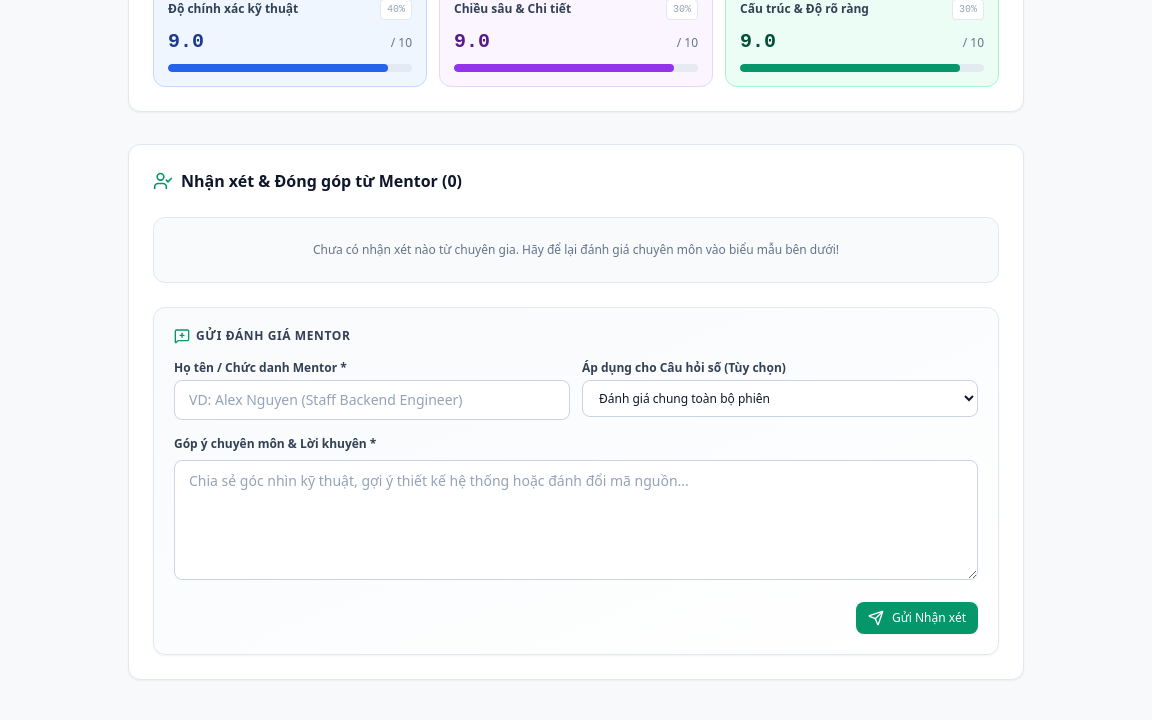
it: Epic 5 Mentor Share Public Review Flow › allows mentor to submit review commentary
This screenshot has width=1152, height=720.
(page scrolled)
Type "Staff Tech Lead" into the field with placeholder "VD: Alex Nguyen (Staff Backend Engineer)".
click(372, 400); type("Staff Tech Lead")  # box [174, 380, 570, 420]
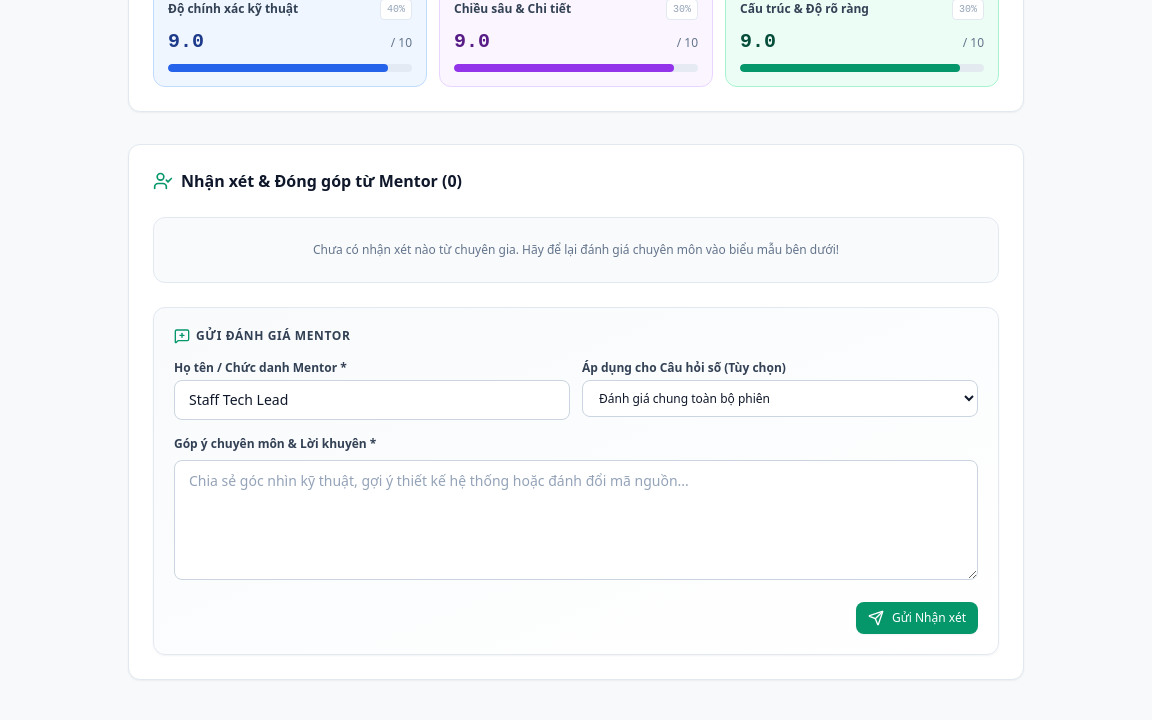
Replace the text in the text box with "Solid distributed systems analysis and trade-offs." at (576, 520), box [174, 460, 978, 580]
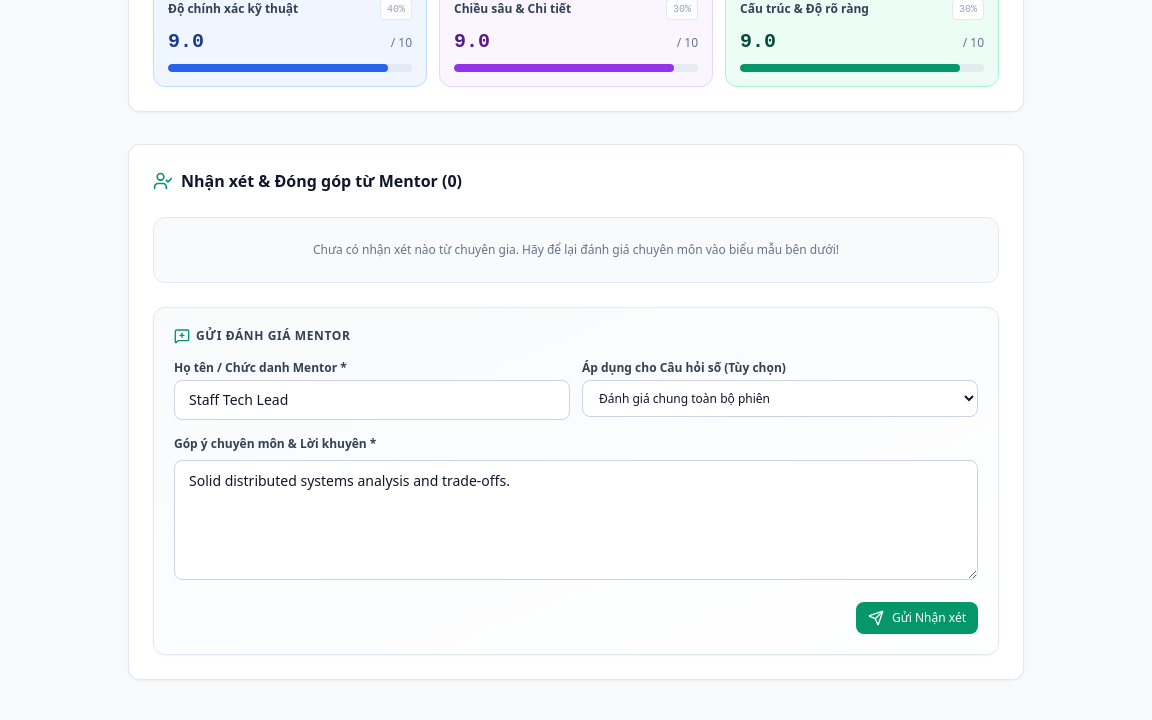
Click the button "Gửi Nhận xét".
click(917, 618)  # box [856, 602, 978, 634]
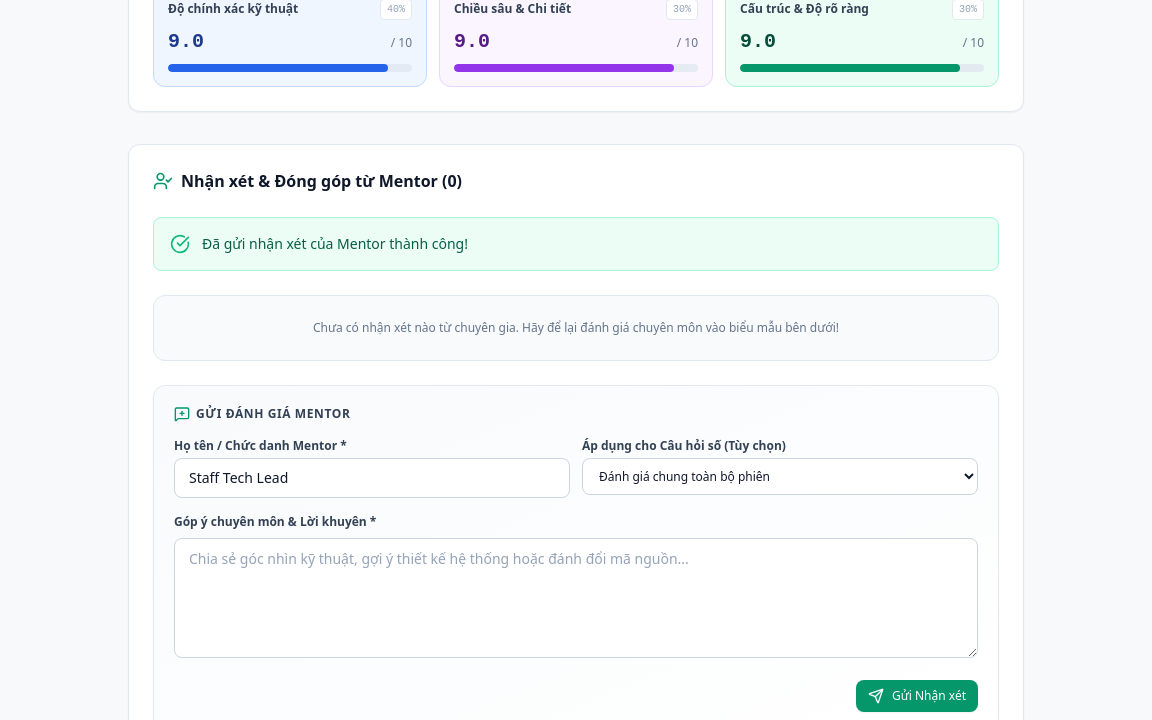
Result: the text "Đã gửi nhận xét của Mentor thành công!" is shown at [202, 234, 468, 252]
